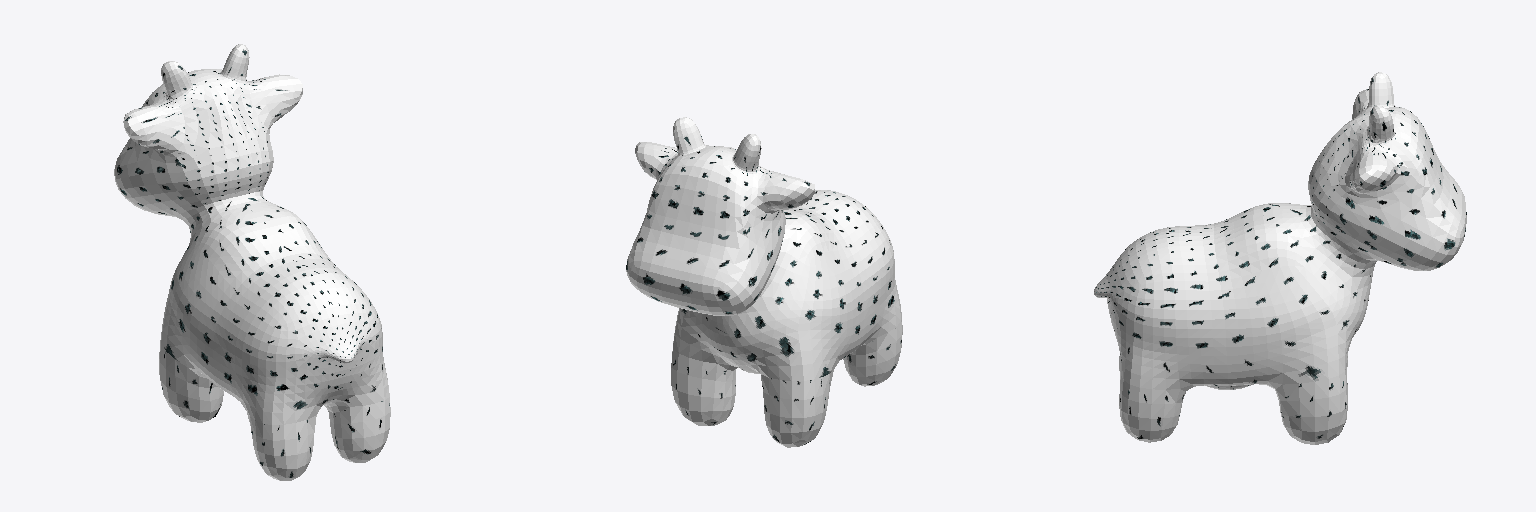
3 views of the same model, side by side, from view 1: azimuth 30°, elevation 25°; view 2: azimuth 150°, elevation 25°; view 3: azimuth 270°, elevation 25° (orthographic).
Bounding box in the file's own units: 0.9431 × 1.69 × 1.72.
Materials: 1 (1 with a texture image).